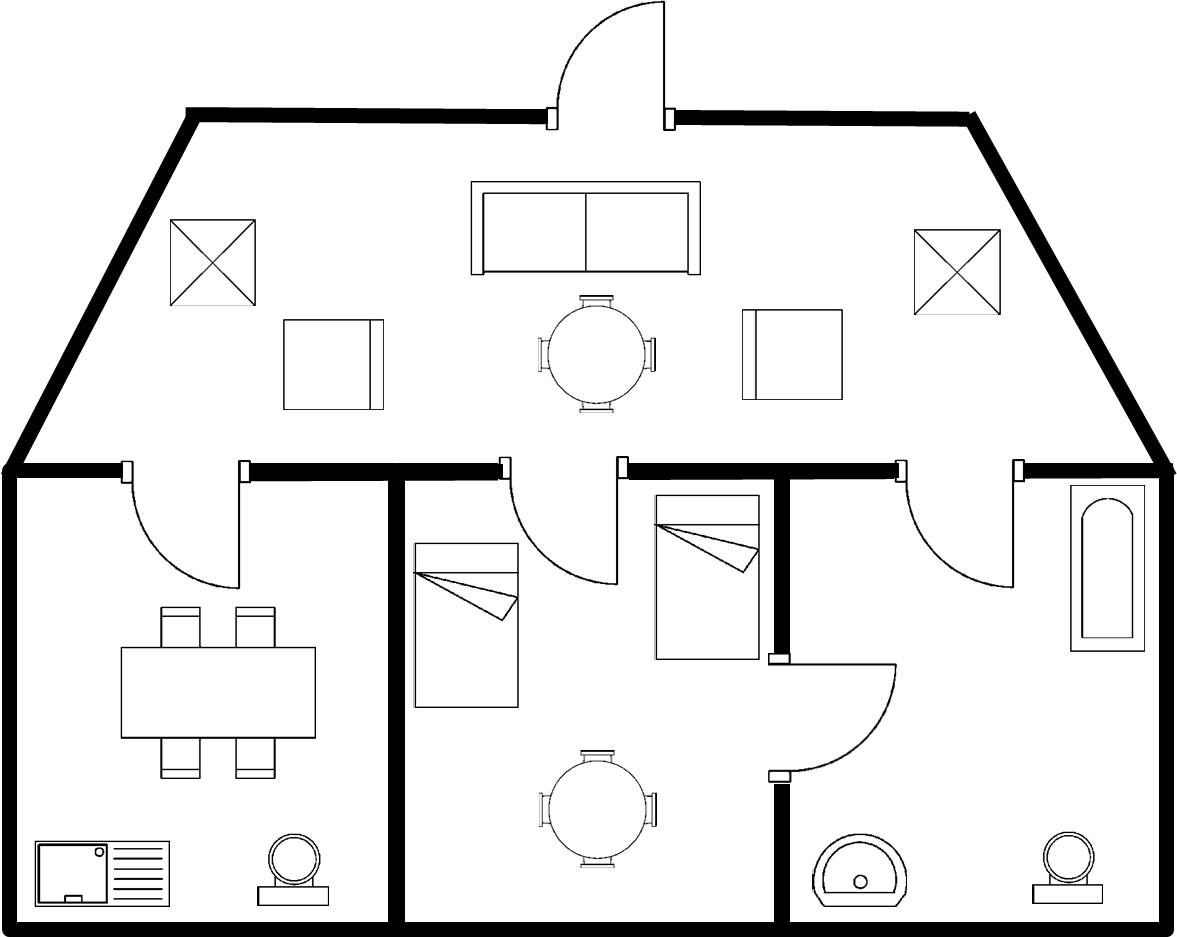bed: (406, 534, 527, 717), (644, 487, 764, 668)
coffee_table: (110, 598, 325, 787), (900, 222, 1012, 324), (164, 214, 260, 311)
large_sink: (801, 825, 912, 915), (251, 823, 341, 915), (1020, 822, 1112, 912)
large_sofa: (461, 172, 712, 286)
round_table: (527, 739, 669, 874), (531, 291, 665, 422)
sink: (27, 831, 182, 916)
small_sink: (803, 821, 913, 912)
small_sofa: (731, 303, 853, 410), (276, 311, 391, 420)
tub: (1061, 479, 1151, 662)
